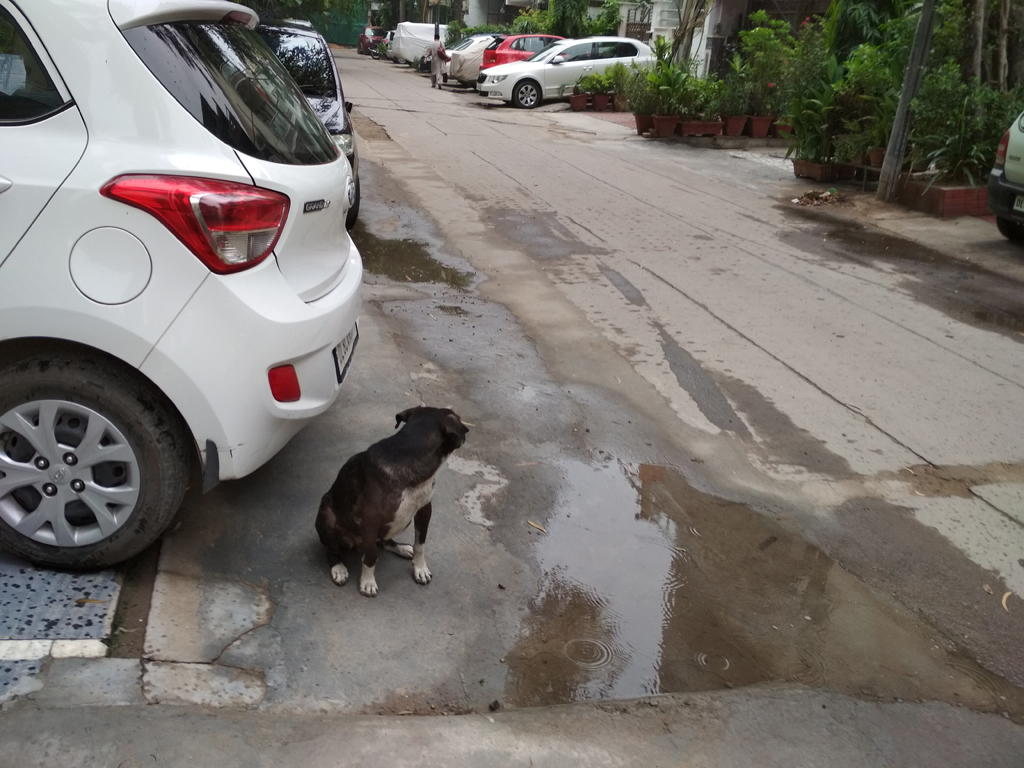dog: (314, 407, 469, 597)
